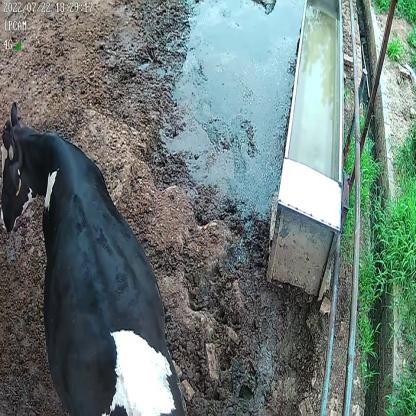cow: (0, 98, 188, 416)
